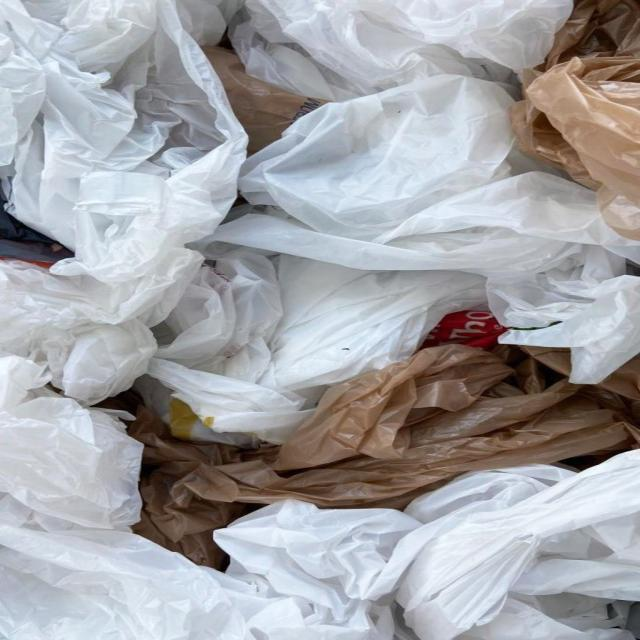Single-layer Plastic: (0, 0, 248, 404), (208, 172, 640, 384), (0, 356, 274, 639), (173, 345, 638, 506), (2, 0, 244, 282), (148, 242, 486, 443), (396, 450, 640, 640), (238, 75, 512, 240), (231, 0, 571, 101), (510, 0, 640, 239), (214, 500, 424, 640), (128, 405, 248, 569), (203, 46, 328, 154)
